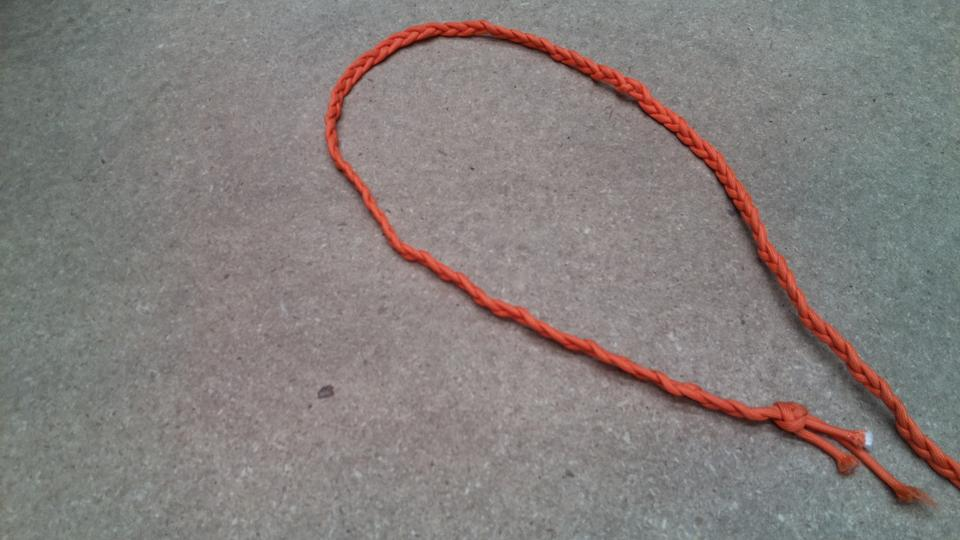rope: (317, 14, 936, 512)
